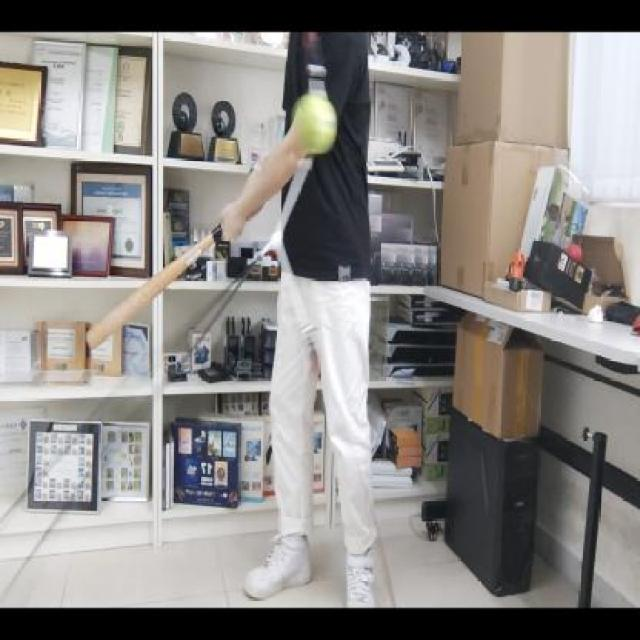baseball: (292, 93, 341, 156)
